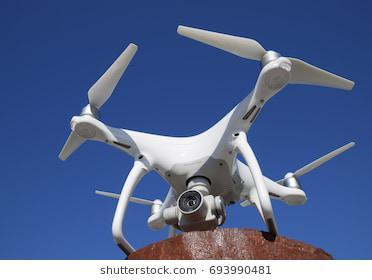drone: (59, 25, 357, 255)
